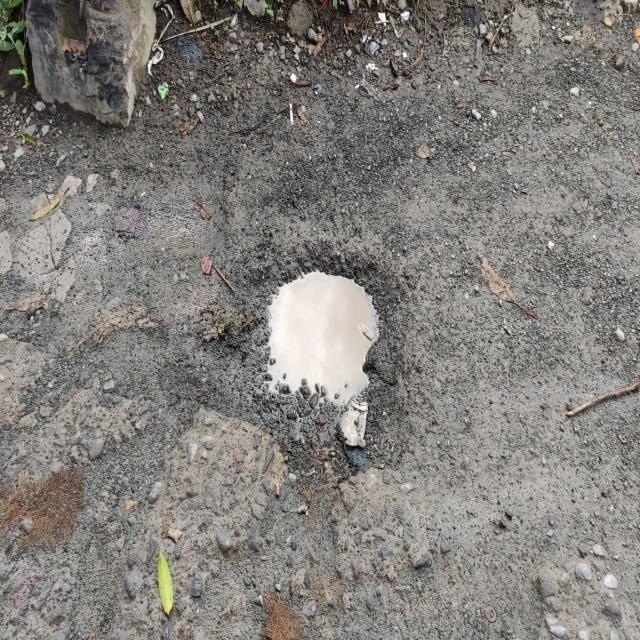pothole: (243, 248, 402, 454)
